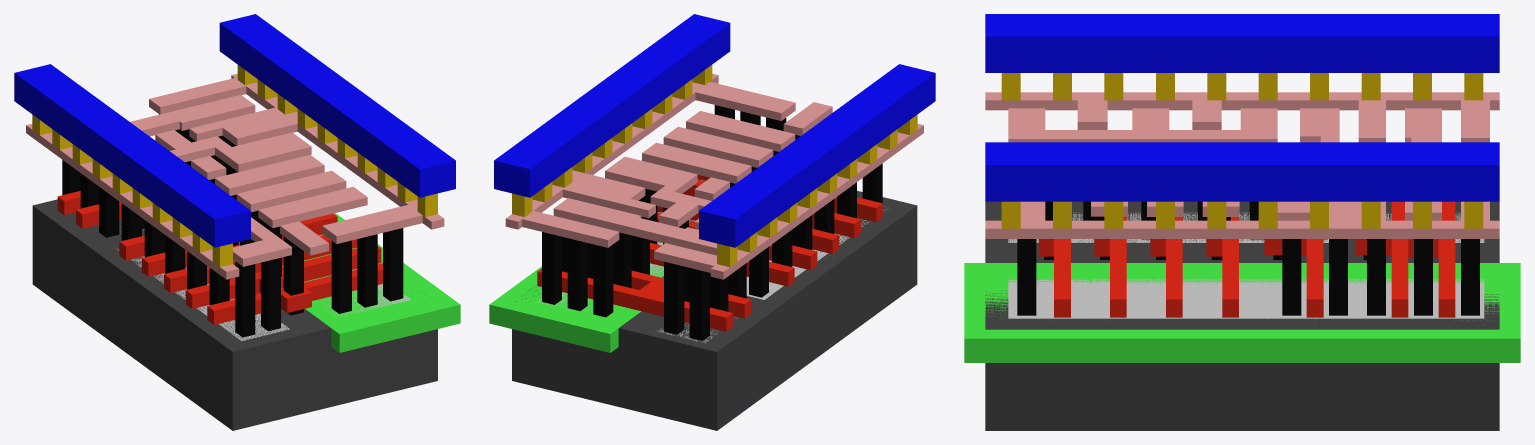
The model's file is sky130_fd_sc_hd__o41a_2.obj.
3 renders of one model, left to right at view 1: azimuth 30°, elevation 25°; view 2: azimuth 150°, elevation 25°; view 3: azimuth 270°, elevation 25°, orthographic. The views are drawn at different scales.
Parts seen in each view (by area): view 1: subs, metal1, li, licon, poly, nwell, mcon, diff, tap; view 2: subs, metal1, li, licon, poly, nwell, mcon, diff; view 3: metal1, subs, li, nwell, poly, mcon, tap, licon, diff.
Part boxes in pixels (bbox=[...]): subs: bbox=[32, 199, 437, 430]; metal1: bbox=[14, 14, 455, 247]; li: bbox=[26, 73, 444, 279]; licon: bbox=[62, 114, 403, 337]; poly: bbox=[57, 191, 382, 324]; nwell: bbox=[282, 213, 460, 352]; mcon: bbox=[32, 65, 437, 266]; diff: bbox=[117, 223, 289, 340]; tap: bbox=[316, 269, 410, 317]; subs: bbox=[512, 179, 917, 430]; metal1: bbox=[494, 14, 935, 247]; li: bbox=[505, 73, 923, 279]; licon: bbox=[542, 105, 882, 340]; poly: bbox=[537, 175, 882, 331]; nwell: bbox=[489, 180, 704, 352]; mcon: bbox=[512, 65, 917, 266]; diff: bbox=[658, 208, 888, 342]; metal1: bbox=[985, 14, 1499, 201]; subs: bbox=[985, 201, 1499, 430]; li: bbox=[985, 92, 1499, 238]; nwell: bbox=[964, 263, 1520, 362]; poly: bbox=[1038, 201, 1455, 317]; mcon: bbox=[1001, 73, 1483, 228]; tap: bbox=[1008, 278, 1484, 318]; licon: bbox=[1017, 201, 1479, 315]; diff: bbox=[1008, 212, 1484, 242].
Size of the model in its own units: 3.2 by 2.74 by 4.98.
